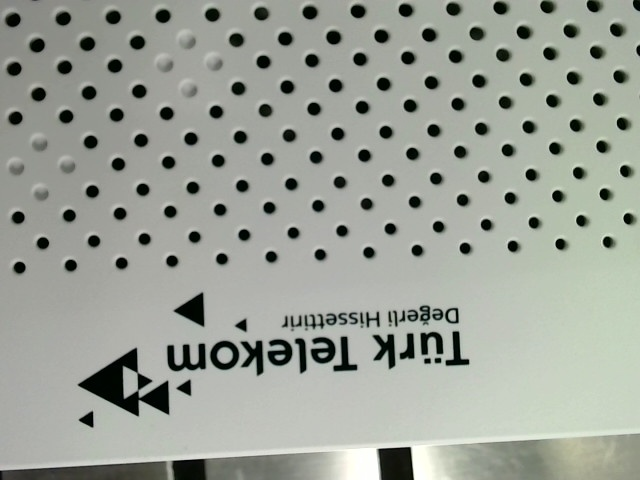AQ_TURKTelekom: (58, 286, 469, 433)
